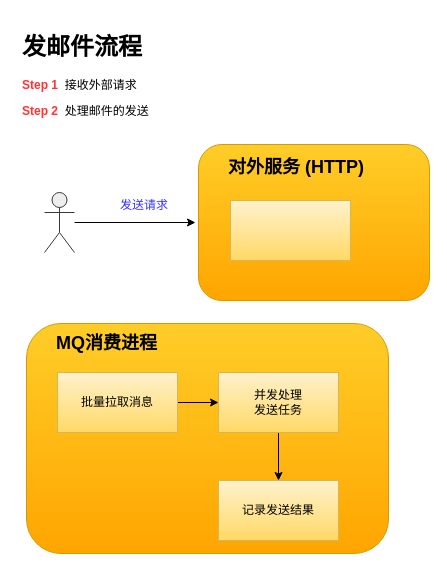
This 447x571 diagram has some shape labels left out. The shapes that lost their labels are listed below. From the top down, each one's box as (x1, y1, x2, y2) in pixels, then its label:
(44, 192, 74, 252): 服务调用方
(230, 200, 350, 260): 消息转发到MQ
